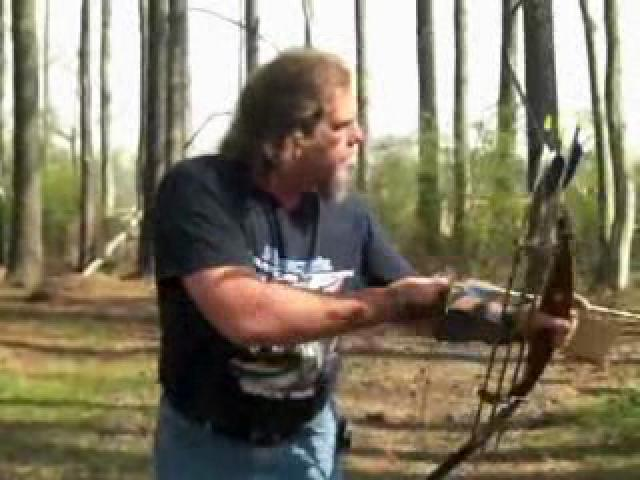I: (152, 45, 580, 480)
